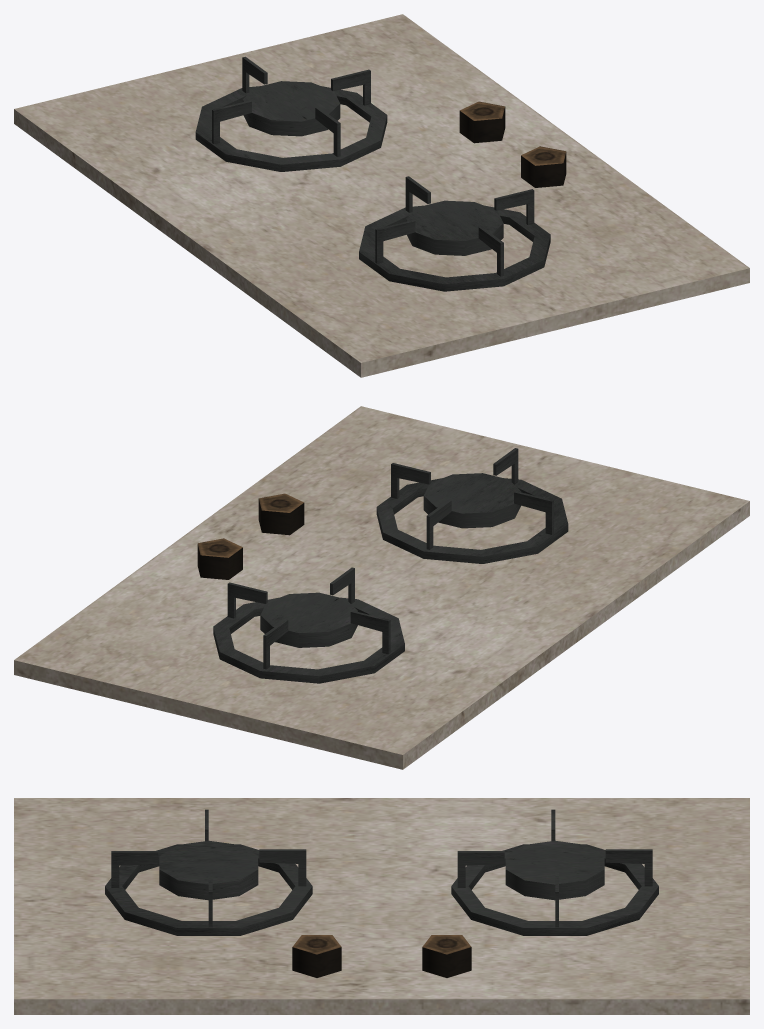
Rendered from stove.fbx.
3 views of the same model, one above another, from view 1: azimuth 30°, elevation 25°; view 2: azimuth 150°, elevation 25°; view 3: azimuth 270°, elevation 25° (orthographic). The views are drawn at different scales.
Parts seen in each view (by area): view 1: stove.001; view 2: stove.001; view 3: stove.001.
Part boxes in pixels (<box>): stove.001: <box>14,14,749,377</box>; stove.001: <box>14,406,749,769</box>; stove.001: <box>14,798,749,1014</box>.
Bounding box in the file's own units: 0.6097 × 0.0831 × 0.9422.
3 materials, 3 textured.
